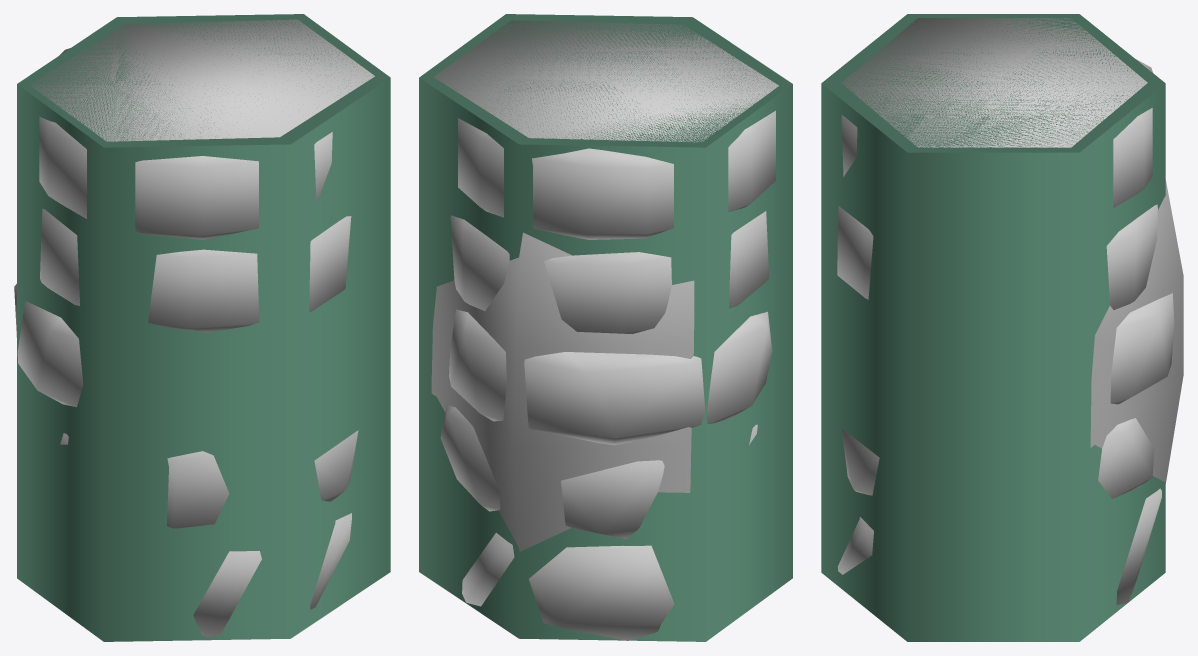
The model's file is hr_tirestack.dae.
The picture shows the model from 3 angles, left to right: view 1: azimuth 30°, elevation 25°; view 2: azimuth 150°, elevation 25°; view 3: azimuth 270°, elevation 25°; orthographic projection.
Parts seen in each view (by area): view 1: hr_tirestack_a005, hr_tirestack_a050, hr_tirestack_a010; view 2: hr_tirestack_a005, hr_tirestack_a050, hr_tirestack_a010; view 3: hr_tirestack_a005, hr_tirestack_a010, hr_tirestack_a050.
Boxes of the visible parts, x1,y1,x2,y2 form: hr_tirestack_a005: (17,14,390,641); hr_tirestack_a050: (14,48,358,637); hr_tirestack_a010: (30,19,374,141); hr_tirestack_a005: (419,14,792,641); hr_tirestack_a050: (440,110,775,640); hr_tirestack_a010: (431,20,778,551); hr_tirestack_a005: (821,14,1165,641); hr_tirestack_a010: (841,18,1183,483); hr_tirestack_a050: (837,59,1174,604).
Size of the model in its own units: 0.6714 by 0.7064 by 1.05.
